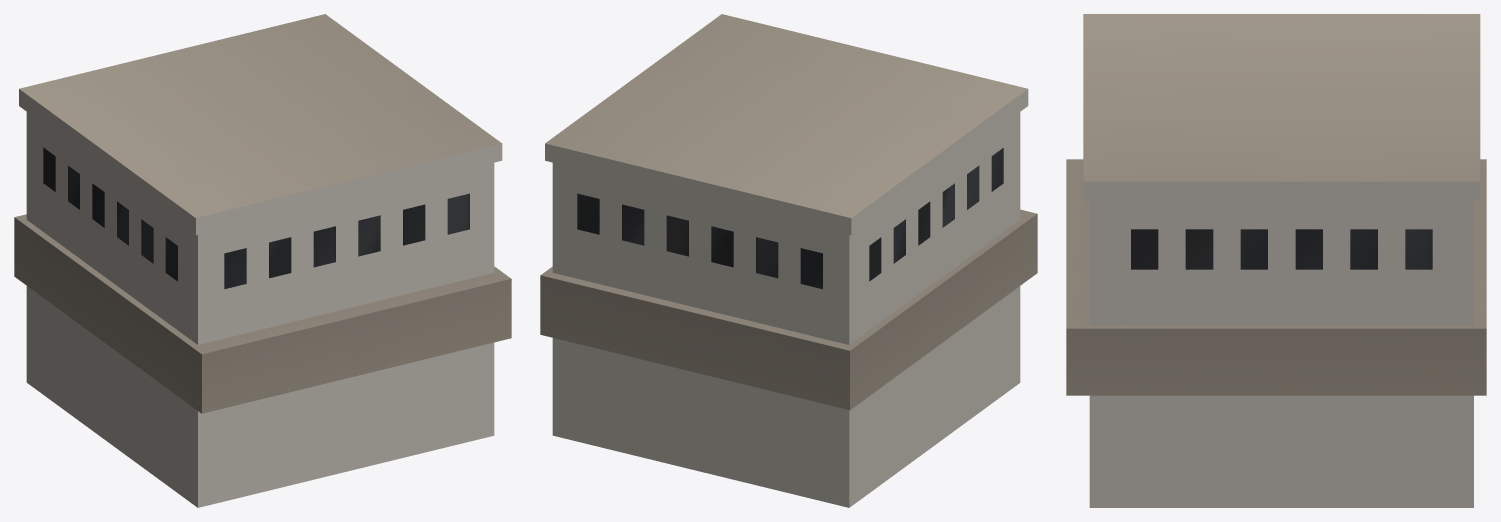
The model's file is Bld_Building_B_low.fbx.
The picture shows the model from 3 angles, left to right: view 1: azimuth 30°, elevation 25°; view 2: azimuth 150°, elevation 25°; view 3: azimuth 270°, elevation 25°; orthographic projection. The views are drawn at different scales.
Parts seen in each view (by area): view 1: Bld_Building_B_low; view 2: Bld_Building_B_low; view 3: Bld_Building_B_low.
Boxes of the visible parts, x1,y1,x2,y2 form: Bld_Building_B_low: [14, 14, 511, 507]; Bld_Building_B_low: [540, 14, 1037, 507]; Bld_Building_B_low: [1066, 14, 1486, 507].
Size of the model in its own units: 1880 by 1700 by 1970.
